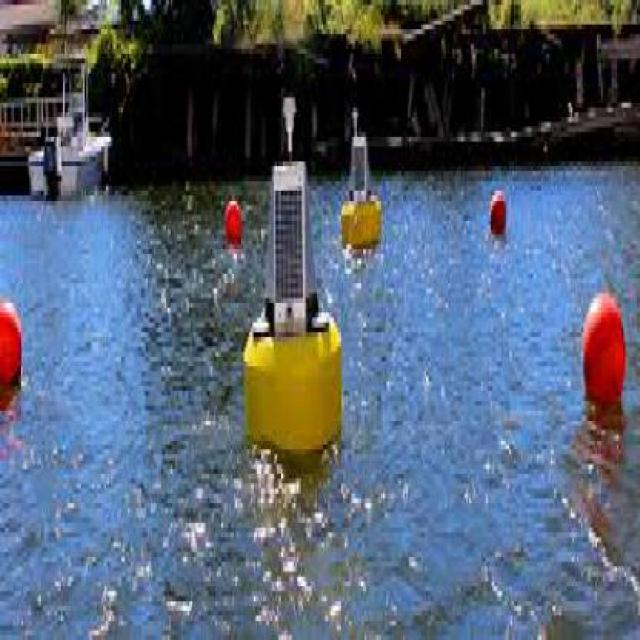buoy: (229, 79, 351, 480), (336, 89, 391, 300)
